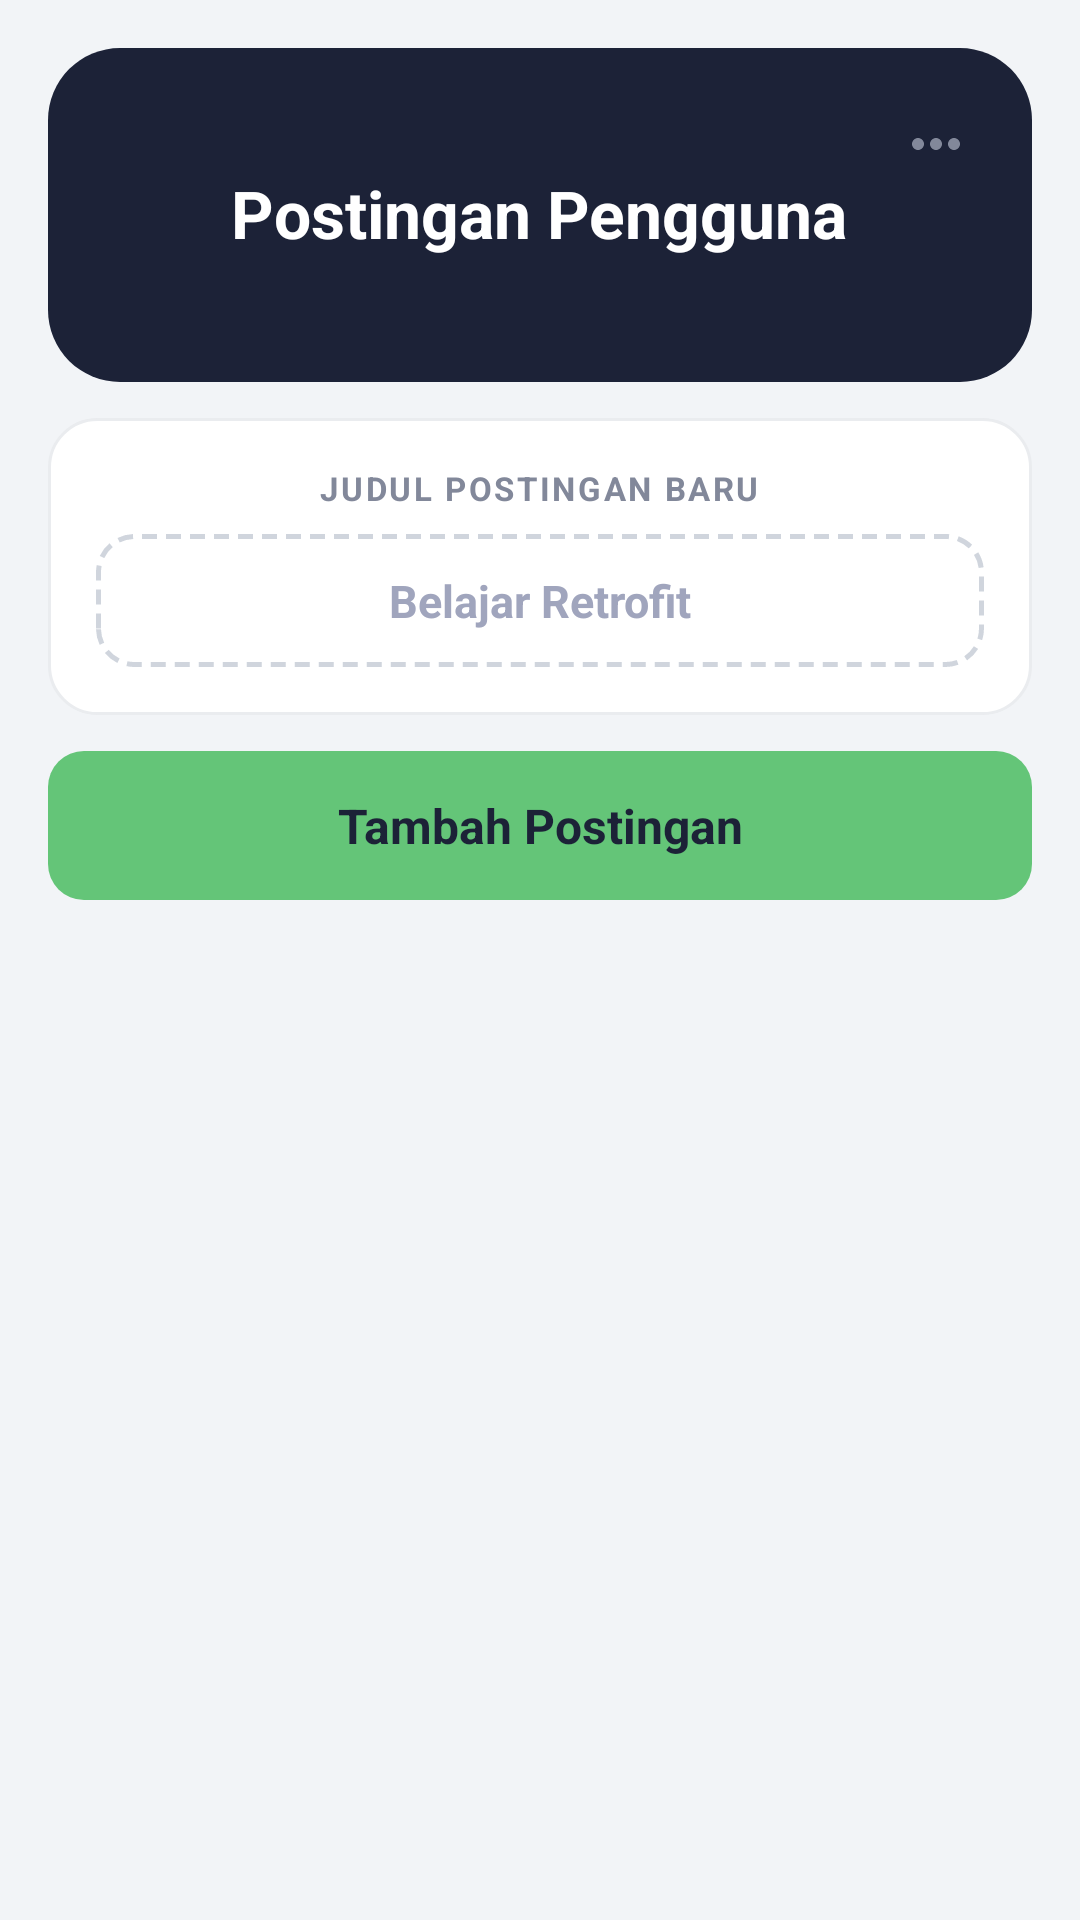

Icons on this 1080*1920 Android screen, each with the point to tap as (x=x, y=y):
more horiz: (x=936, y=144)
